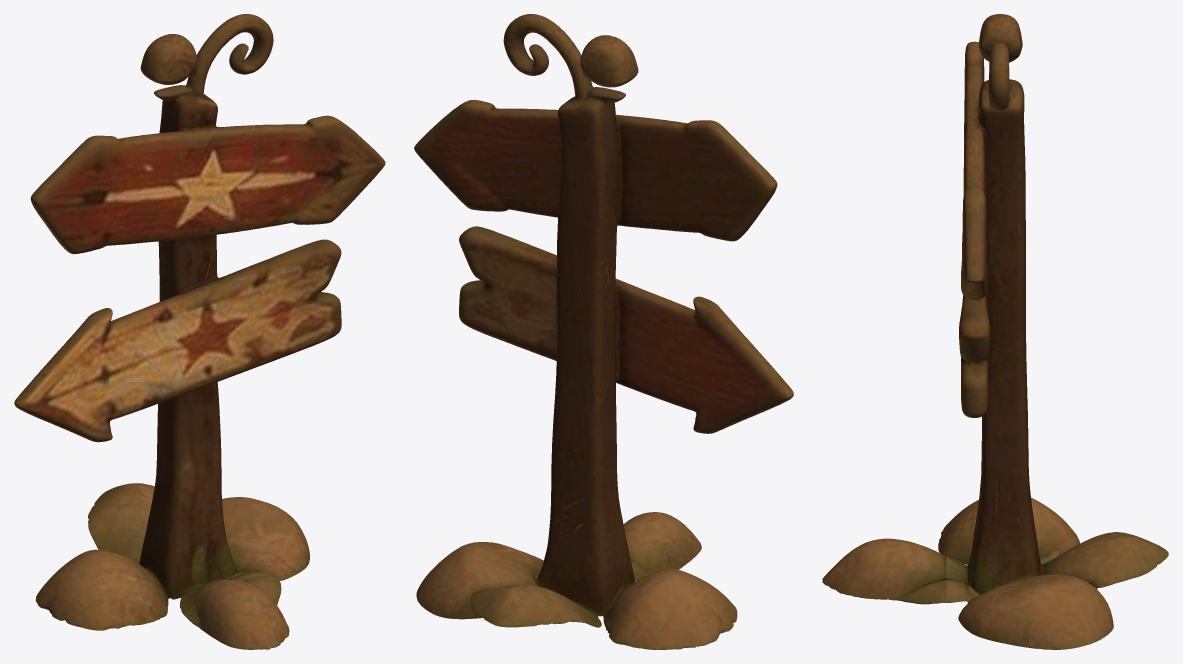
File: p_poste.glb
3 views of the same model, side by side, from view 1: azimuth 30°, elevation 25°; view 2: azimuth 150°, elevation 25°; view 3: azimuth 270°, elevation 25° (orthographic). The views are drawn at different scales.
Bounding box in the file's own units: 1.32 × 1.9 × 1.06.
1 material, 1 textured.
